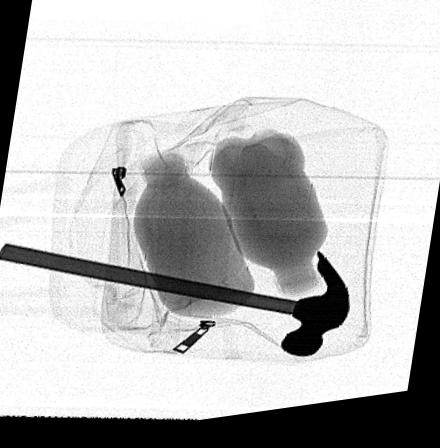Hammer: (0, 242, 350, 365)
